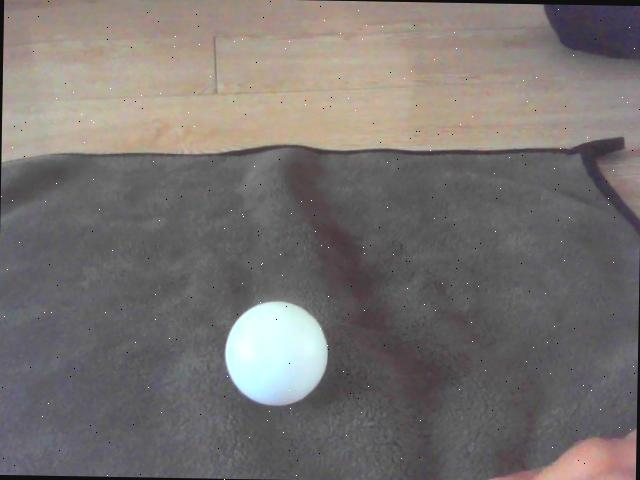ball: (221, 302, 328, 406)
